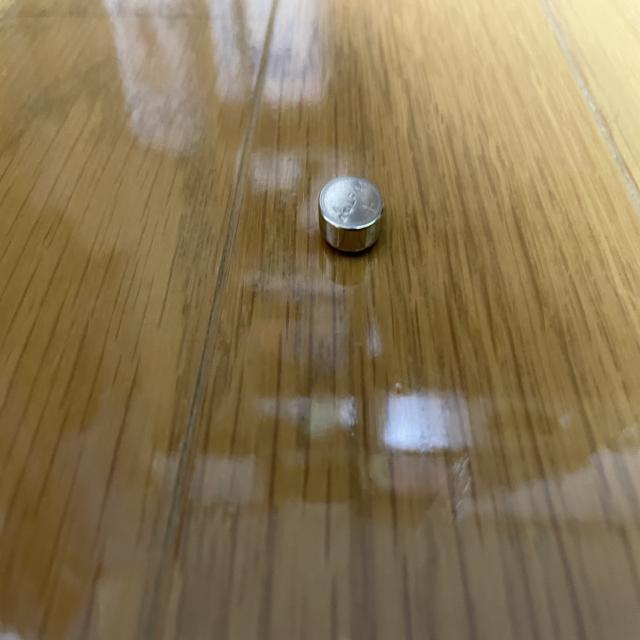COIN: (318, 175, 383, 257)
